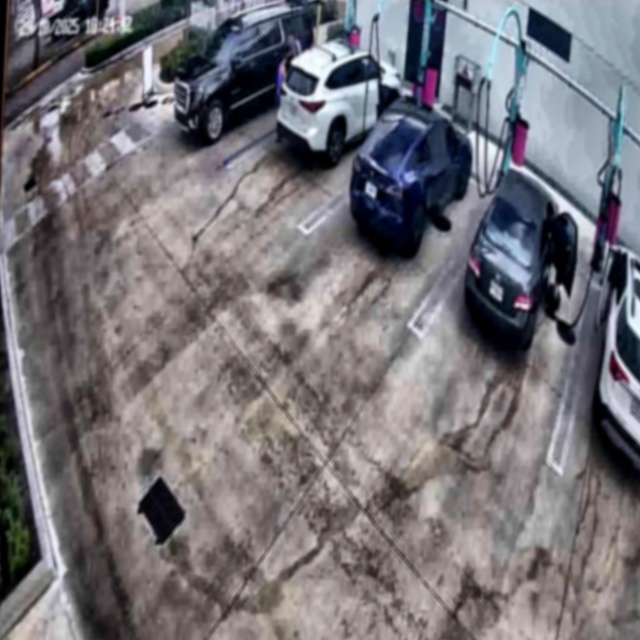Car: (351, 95, 472, 255), (464, 165, 574, 338), (278, 41, 403, 164)
